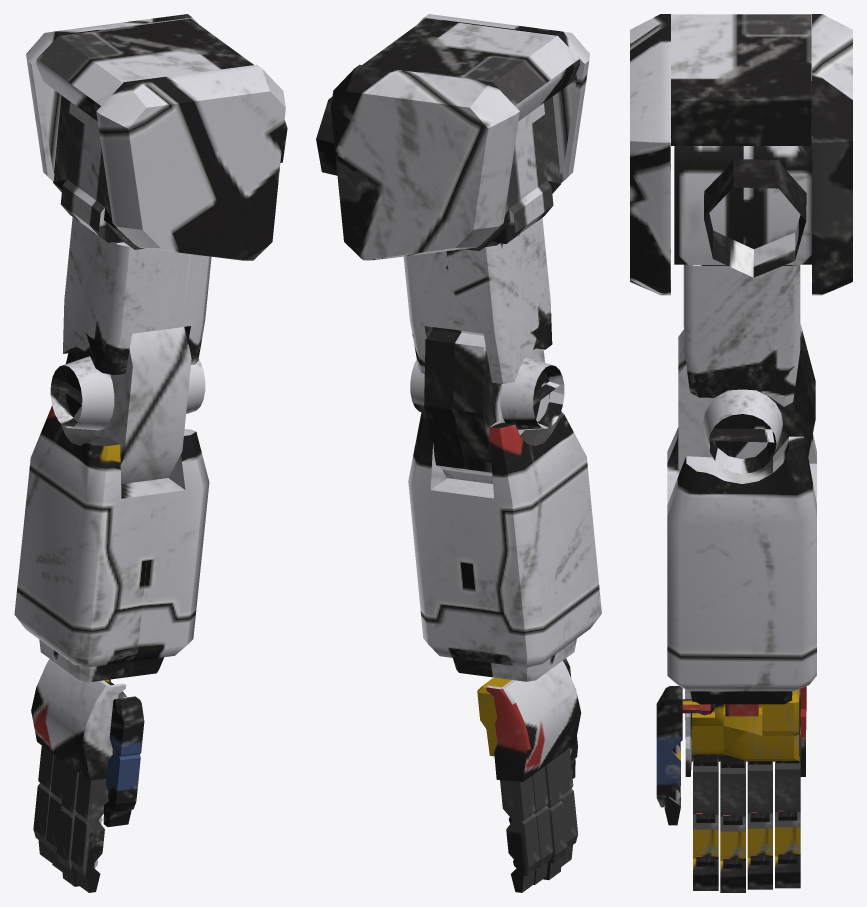
The model's file is righthand.obj.
The picture shows the model from 3 angles, left to right: view 1: azimuth 30°, elevation 25°; view 2: azimuth 150°, elevation 25°; view 3: azimuth 270°, elevation 25°; orthographic projection. The views are drawn at different scales.
Parts seen in each view (by area): view 1: Gundam:polySurface666 polySurface19, polySurface5 Gundam:polySurface666, Gundam:polySurface666 polySurface21, Gundam:polySurface666 polySurface8, Gundam:polySurface666 polySurface18, Gundam:polySurface666 polySurface88, Gundam:polySurface666 polySurface6, Gundam:polySurface666 polySurface91, Gundam:polySurface666 polySurface20, Gundam:polySurface666 polySurface7, Gundam:polySurface666 polySurface98, Gundam:polySurface666 polySurface104 (+3 smaller); view 2: Gundam:polySurface666 polySurface19, Gundam:polySurface666 polySurface7, Gundam:polySurface666 polySurface21, Gundam:polySurface666 polySurface8, Gundam:polySurface666 polySurface18, Gundam:polySurface666 polySurface88, Gundam:polySurface666 polySurface6, Gundam:polySurface666 polySurface20, polySurface5 Gundam:polySurface666, Gundam:polySurface666 polySurface100, Gundam:polySurface666 polySurface104, Gundam:polySurface666 polySurface99 (+4 smaller); view 3: Gundam:polySurface666 polySurface19, Gundam:polySurface666 polySurface8, Gundam:polySurface666 polySurface21, Gundam:polySurface666 polySurface6, polySurface5 Gundam:polySurface666, Gundam:polySurface666 polySurface7, Gundam:polySurface666 polySurface55, Gundam:polySurface666 polySurface90, Gundam:polySurface666 polySurface22, Gundam:polySurface666 polySurface18, Gundam:polySurface666 polySurface91, Gundam:polySurface666 polySurface100 (+4 smaller).
Boxes of the visible parts, x1=… form: Gundam:polySurface666 polySurface19: x1=14, y1=405, x2=209, y2=682; polySurface5 Gundam:polySurface666: x1=96, y1=65, x2=285, y2=260; Gundam:polySurface666 polySurface21: x1=63, y1=217, x2=211, y2=375; Gundam:polySurface666 polySurface8: x1=36, y1=18, x2=253, y2=121; Gundam:polySurface666 polySurface18: x1=66, y1=327, x2=191, y2=484; Gundam:polySurface666 polySurface88: x1=31, y1=659, x2=126, y2=780; Gundam:polySurface666 polySurface6: x1=53, y1=95, x2=145, y2=249; Gundam:polySurface666 polySurface91: x1=103, y1=696, x2=144, y2=826; Gundam:polySurface666 polySurface20: x1=50, y1=356, x2=114, y2=430; Gundam:polySurface666 polySurface7: x1=26, y1=14, x2=198, y2=181; Gundam:polySurface666 polySurface98: x1=70, y1=773, x2=108, y2=892; Gundam:polySurface666 polySurface104: x1=56, y1=763, x2=79, y2=886; Gundam:polySurface666 polySurface19: x1=408, y1=411, x2=601, y2=681; Gundam:polySurface666 polySurface7: x1=330, y1=64, x2=519, y2=260; Gundam:polySurface666 polySurface21: x1=403, y1=217, x2=552, y2=383; Gundam:polySurface666 polySurface8: x1=362, y1=18, x2=579, y2=121; Gundam:polySurface666 polySurface18: x1=424, y1=327, x2=544, y2=483; Gundam:polySurface666 polySurface88: x1=486, y1=661, x2=581, y2=781; Gundam:polySurface666 polySurface6: x1=463, y1=97, x2=560, y2=251; Gundam:polySurface666 polySurface20: x1=500, y1=357, x2=564, y2=430; polySurface5 Gundam:polySurface666: x1=417, y1=14, x2=589, y2=183; Gundam:polySurface666 polySurface100: x1=500, y1=776, x2=540, y2=892; Gundam:polySurface666 polySurface104: x1=543, y1=756, x2=567, y2=879; Gundam:polySurface666 polySurface99: x1=532, y1=766, x2=552, y2=884; Gundam:polySurface666 polySurface19: x1=667, y1=427, x2=816, y2=704; Gundam:polySurface666 polySurface8: x1=671, y1=14, x2=811, y2=145; Gundam:polySurface666 polySurface21: x1=683, y1=264, x2=800, y2=406; Gundam:polySurface666 polySurface6: x1=674, y1=81, x2=812, y2=264; polySurface5 Gundam:polySurface666: x1=630, y1=14, x2=670, y2=295; Gundam:polySurface666 polySurface7: x1=812, y1=14, x2=852, y2=295; Gundam:polySurface666 polySurface55: x1=704, y1=159, x2=806, y2=277; Gundam:polySurface666 polySurface90: x1=692, y1=689, x2=799, y2=760; Gundam:polySurface666 polySurface22: x1=703, y1=389, x2=782, y2=473; Gundam:polySurface666 polySurface18: x1=678, y1=323, x2=815, y2=470; Gundam:polySurface666 polySurface91: x1=656, y1=686, x2=682, y2=825; Gundam:polySurface666 polySurface100: x1=775, y1=756, x2=800, y2=888.
Size of the model in its own units: 3.53 by 12.02 by 2.73.
1 material, 1 textured.
